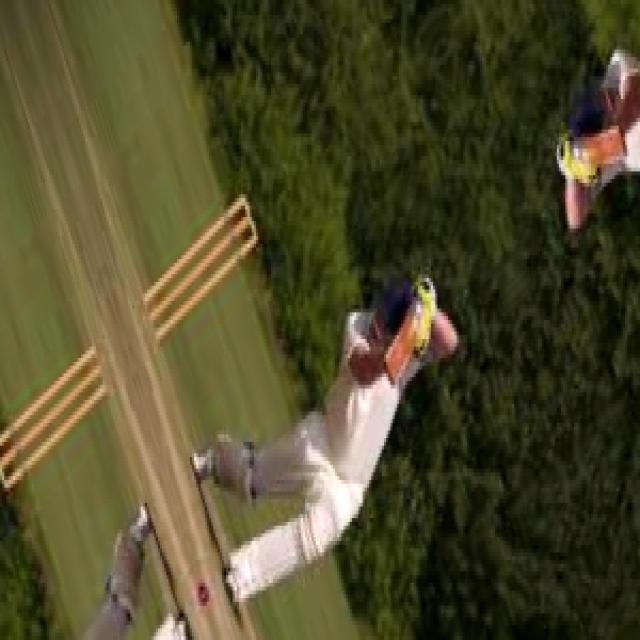toe: (383, 344, 404, 398)
